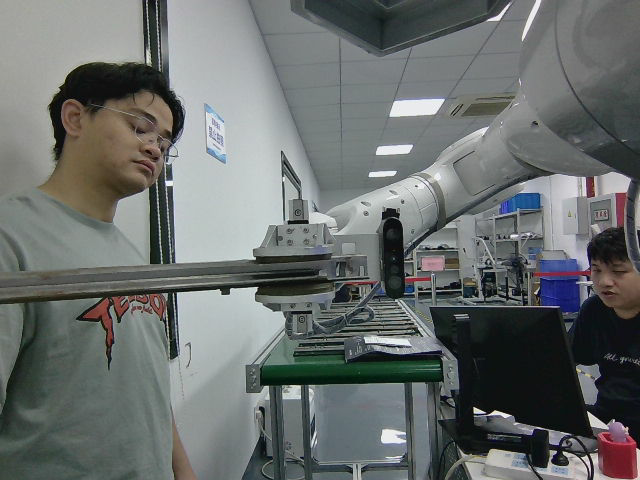down: (0, 253, 368, 304)
